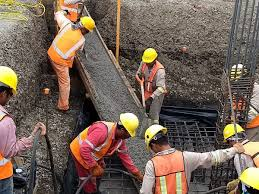Casco de seguridad: (146, 121, 169, 154), (0, 66, 17, 93), (119, 113, 138, 136), (223, 124, 244, 141), (80, 16, 95, 32), (142, 48, 157, 62)
